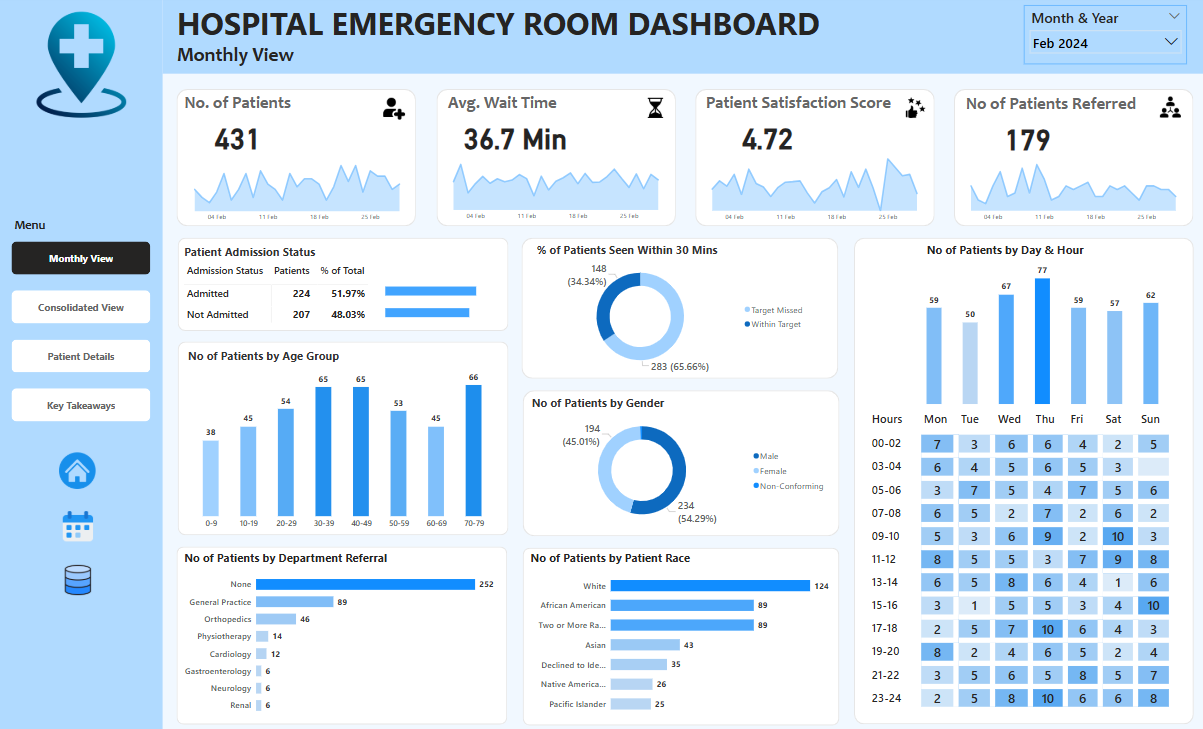

The page's visual inventory and layout, read from the dashboard file:
{"tool":"powerbi","page":{"name":"Monthly View","canvas":[2300,1400],"ordinal":0},"visuals":[{"type":"shape","box":[338.5,171.3,455.5,261.2],"z":0},{"type":"shape","box":[1324.7,171.3,455.5,261.2],"z":1000},{"type":"shape","box":[0,0,311.5,1400.5],"z":2000},{"type":"shape","box":[831.6,171.3,455.5,261.2],"z":3000},{"type":"card","fields":{"Values":["Hospital ER_Hospital ER.No of Patients"]},"box":[374,225.7,160.9,66.9],"z":4000},{"type":"card","fields":{"Values":["Hospital ER_Hospital ER.Avg Wait Time"]},"box":[869.2,225.7,223.6,66.9],"z":5000},{"type":"card","fields":{"Values":["Avg(Hospital ER_Hospital ER.Patient Satisfaction Score)"]},"box":[1381.4,225.6,160.9,66.9],"z":6000},{"type":"shape","box":[1817.8,171.3,455.5,261.2],"z":7000},{"type":"card","fields":{"Values":["Hospital ER_Hospital ER.Measure"]},"box":[1876.7,227.6,160.9,66.9],"z":8000},{"type":"shape","box":[311.3,0,1989.1,142.1],"z":9000},{"type":"slicer","fields":{"Values":["Calendar Table.Month & Year"]},"box":[1950.8,12.2,309.8,112.1],"z":10000},{"type":"textbox","box":[339.2,171.3,227.8,56.5],"z":11000},{"type":"textbox","box":[841.3,171.3,231.1,56.5],"z":12000},{"type":"textbox","box":[1331.2,172,377.5,55.8],"z":13000},{"type":"textbox","box":[1828.2,173.4,344.8,56.4],"z":14000},{"type":"areaChart","fields":{"Category":["Calendar Table.Date.Variation.Date Hierarchy.Year","Calendar Table.Date.Variation.Date Hierarchy.Quarter","Calendar Table.Date.Variation.Date Hierarchy.Month","Calendar Table.Date.Variation.Date Hierarchy.Day"],"Y":["Hospital ER_Hospital ER.No of Patients"]},"box":[348.4,288.1,435.5,145.2],"z":15000},{"type":"areaChart","fields":{"Category":["Calendar Table.Date.Variation.Date Hierarchy.Year","Calendar Table.Date.Variation.Date Hierarchy.Quarter","Calendar Table.Date.Variation.Date Hierarchy.Month","Calendar Table.Date.Variation.Date Hierarchy.Day"],"Y":["Avg(Hospital ER_Hospital ER.Patient Waittime)"]},"box":[842.1,285.9,435.5,145.2],"z":16000},{"type":"areaChart","fields":{"Category":["Calendar Table.Date.Variation.Date Hierarchy.Year","Calendar Table.Date.Variation.Date Hierarchy.Quarter","Calendar Table.Date.Variation.Date Hierarchy.Month","Calendar Table.Date.Variation.Date Hierarchy.Day"],"Y":["Avg(Hospital ER_Hospital ER.Patient Satisfaction Score)"]},"box":[1333.4,290.4,435.5,142.9],"z":17000},{"type":"areaChart","fields":{"Category":["Calendar Table.Date.Variation.Date Hierarchy.Year","Calendar Table.Date.Variation.Date Hierarchy.Quarter","Calendar Table.Date.Variation.Date Hierarchy.Month","Calendar Table.Date.Variation.Date Hierarchy.Day"],"Y":["Hospital ER_Hospital ER.Measure"]},"box":[1827.1,288.1,435.5,145.2],"z":18000},{"type":"textbox","box":[331.7,0,1281,88.9],"z":19000},{"type":"image","box":[1222.3,183.9,52.2,48.1],"z":20000},{"type":"image","box":[724.8,183.1,52.8,51.2],"z":21000},{"type":"image","box":[2198,181.8,62.7,50],"z":22000},{"type":"image","box":[1713.3,179.7,58.5,52.2],"z":23000},{"type":"shape","box":[338.9,455,629.1,177.3],"z":24000},{"type":"shape","box":[994.7,455,602.5,268.3],"z":25000},{"type":"shape","box":[1626.9,455,646.4,925.6],"z":26000},{"type":"shape","box":[996.2,743.7,602.5,277.7],"z":27000},{"type":"donutChart","title":"% of Patients Seen Within 30 Mins","fields":{"Y":["Hospital ER_Hospital ER.No of Patients"],"Category":["Hospital ER_Hospital ER.Waittime Status"]},"box":[1017.7,461.3,525.5,256.8],"z":28000},{"type":"donutChart","title":"No of Patients by Gender","fields":{"Y":["Hospital ER_Hospital ER.No of Patients"],"Category":["Hospital ER_Hospital ER.Full Gender"]},"box":[1008.2,753.7,575.4,256.8],"z":29000},{"type":"shape","box":[338.9,652.7,629.1,368.7],"z":30000},{"type":"pivotTable","title":"Patient Admission Status","fields":{"Rows":["Hospital ER_Hospital ER.Admission Status"],"Values":["Hospital ER_Hospital ER.No of Patients1","Hospital ER_Hospital ER.No of Patients"]},"box":[347.9,465.5,610,158.3],"z":31000},{"type":"barChart","fields":{"Category":["Hospital ER_Hospital ER.Admission Status"],"Y":["Hospital ER_Hospital ER.No of Patients"]},"box":[729.5,514.6,241.6,120.8],"z":32000},{"type":"clusteredColumnChart","fields":{"Category":["Hospital ER_Hospital ER.Age Group"],"Y":["Hospital ER_Hospital ER.No of Patients"]},"box":[354.6,662.7,599.3,354.6],"z":33000},{"type":"shape","box":[337.3,1041.7,629.1,338.9],"z":34000},{"type":"clusteredBarChart","fields":{"Category":["Hospital ER_Hospital ER.Department Referral"],"Y":["Hospital ER_Hospital ER.No of Patients"]},"box":[348.3,1049.6,602.5,324.8],"z":35000},{"type":"shape","box":[996.5,1043,602.2,338.4],"z":36000},{"type":"clusteredBarChart","fields":{"Y":["Hospital ER_Hospital ER.No of Patients"],"Category":["Hospital ER_Hospital ER.Patient Race"]},"box":[1005.8,1049.2,578.9,324.4],"z":37000},{"type":"pivotTable","fields":{"Columns":["Calendar Table.Day Name"],"Rows":["Hospital ER_Hospital ER.Waittime Interval"],"Values":["Hospital ER_Hospital ER.No of Patients"]},"box":[1649.4,776.5,606.9,583.6],"z":38000},{"type":"clusteredColumnChart","title":"No of Patients by Day & Hour","fields":{"Category":["Calendar Table.Day Name"],"Y":["Hospital ER_Hospital ER.No of Patients"]},"box":[1758.7,461.3,453.4,315.3],"z":39000},{"type":"textbox","box":[333.7,79.2,411.3,59],"z":40000},{"type":"pageNavigator","box":[24.2,462.3,264.1,343.1],"z":41000},{"type":"textbox","box":[24.2,409.1,99.9,48.3],"z":42000},{"type":"textbox","box":[29,1336.8,257.7,45.1],"z":45000},{"type":"image","box":[110.1,854.1,79.5,87.7],"z":46000},{"type":"image","box":[116.2,966.2,67.3,75.4],"z":47000},{"type":"image","box":[116.2,1068.1,67.3,75.4],"z":48000},{"type":"image","box":[46.9,17.9,218.9,212.2],"z":50000}]}

Visuals, with their boxes in screenshot pixels (x1, y1, x2, y2), scaled from the page's 2300x1400 canvas onto the 1203x729 screenshot:
shape: region(177, 89, 415, 225)
shape: region(693, 89, 931, 225)
shape: region(0, 0, 163, 728)
shape: region(435, 89, 673, 225)
card - Hospital ER_Hospital ER.No of Patients: region(196, 118, 280, 152)
card - Hospital ER_Hospital ER.Avg Wait Time: region(455, 118, 572, 152)
card - Avg(Hospital ER_Hospital ER.Patient Satisfaction Score): region(723, 117, 807, 152)
shape: region(951, 89, 1189, 225)
card - Hospital ER_Hospital ER.Measure: region(982, 119, 1066, 153)
shape: region(163, 0, 1202, 74)
slicer - Calendar Table.Month & Year: region(1020, 6, 1182, 65)
textbox: region(177, 89, 297, 119)
textbox: region(440, 89, 561, 119)
textbox: region(696, 90, 894, 119)
textbox: region(956, 90, 1137, 120)
areaChart - Calendar Table.Date.Variation.Date Hierarchy.Year x Calendar Table.Date.Variation.Date Hierarchy.Quarter: region(182, 150, 410, 226)
areaChart - Calendar Table.Date.Variation.Date Hierarchy.Year x Calendar Table.Date.Variation.Date Hierarchy.Quarter: region(440, 149, 668, 224)
areaChart - Calendar Table.Date.Variation.Date Hierarchy.Year x Calendar Table.Date.Variation.Date Hierarchy.Quarter: region(697, 151, 925, 226)
areaChart - Calendar Table.Date.Variation.Date Hierarchy.Year x Calendar Table.Date.Variation.Date Hierarchy.Quarter: region(956, 150, 1183, 226)
textbox: region(173, 0, 844, 46)
image: region(639, 96, 667, 121)
image: region(379, 95, 407, 122)
image: region(1150, 95, 1182, 121)
image: region(896, 94, 927, 121)
shape: region(177, 237, 506, 329)
shape: region(520, 237, 835, 377)
shape: region(851, 237, 1189, 719)
shape: region(521, 387, 836, 532)
"% of Patients Seen Within 30 Mins" donutChart: region(532, 240, 807, 374)
"No of Patients by Gender" donutChart: region(527, 392, 828, 526)
shape: region(177, 340, 506, 532)
"Patient Admission Status" pivotTable: region(182, 242, 501, 325)
barChart - Hospital ER_Hospital ER.Admission Status x Hospital ER_Hospital ER.No of Patients: region(382, 268, 508, 331)
clusteredColumnChart - Hospital ER_Hospital ER.Age Group x Hospital ER_Hospital ER.No of Patients: region(185, 345, 499, 530)
shape: region(176, 542, 505, 719)
clusteredBarChart - Hospital ER_Hospital ER.Department Referral x Hospital ER_Hospital ER.No of Patients: region(182, 547, 497, 716)
shape: region(521, 543, 836, 719)
clusteredBarChart - Hospital ER_Hospital ER.No of Patients x Hospital ER_Hospital ER.Patient Race: region(526, 546, 829, 715)
pivotTable - Calendar Table.Day Name x Hospital ER_Hospital ER.Waittime Interval: region(863, 404, 1180, 708)
"No of Patients by Day & Hour" clusteredColumnChart: region(920, 240, 1157, 404)
textbox: region(175, 41, 390, 72)
pageNavigator: region(13, 241, 151, 419)
textbox: region(13, 213, 65, 238)
textbox: region(15, 696, 150, 720)
image: region(58, 445, 99, 490)
image: region(61, 503, 96, 542)
image: region(61, 556, 96, 595)
image: region(25, 9, 139, 120)
